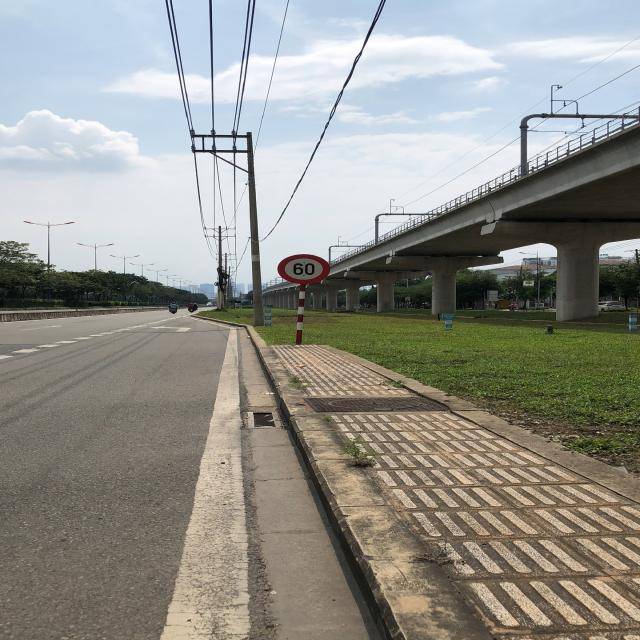Bien bao toc do toi da cho phep: (274, 253, 335, 285)
